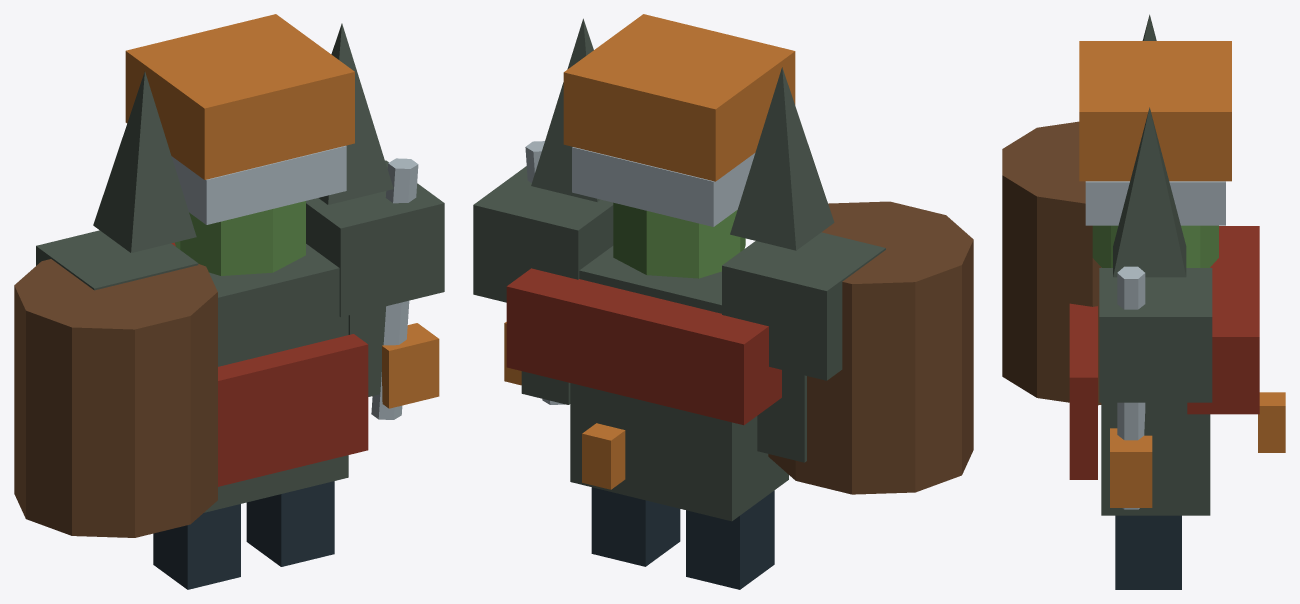
Rendered from heavy-infantry.obj.
The picture shows the model from 3 angles, left to right: view 1: azimuth 30°, elevation 25°; view 2: azimuth 150°, elevation 25°; view 3: azimuth 270°, elevation 25°; orthographic projection. The views are drawn at different scales.
Visible parts, largest first — view 1: infantry; view 2: infantry; view 3: infantry.
Part boxes in pixels (x1=…): infantry: x1=14, y1=14, x2=444, y2=589; infantry: x1=473, y1=14, x2=973, y2=589; infantry: x1=1002, y1=14, x2=1285, y2=589.
Size of the model in its own units: 1.54 by 1.79 by 0.9273.
